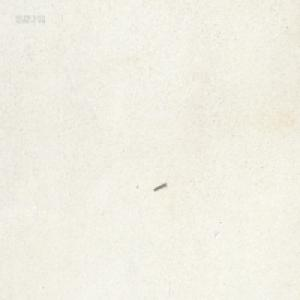Bolt: (152, 181, 166, 191)
